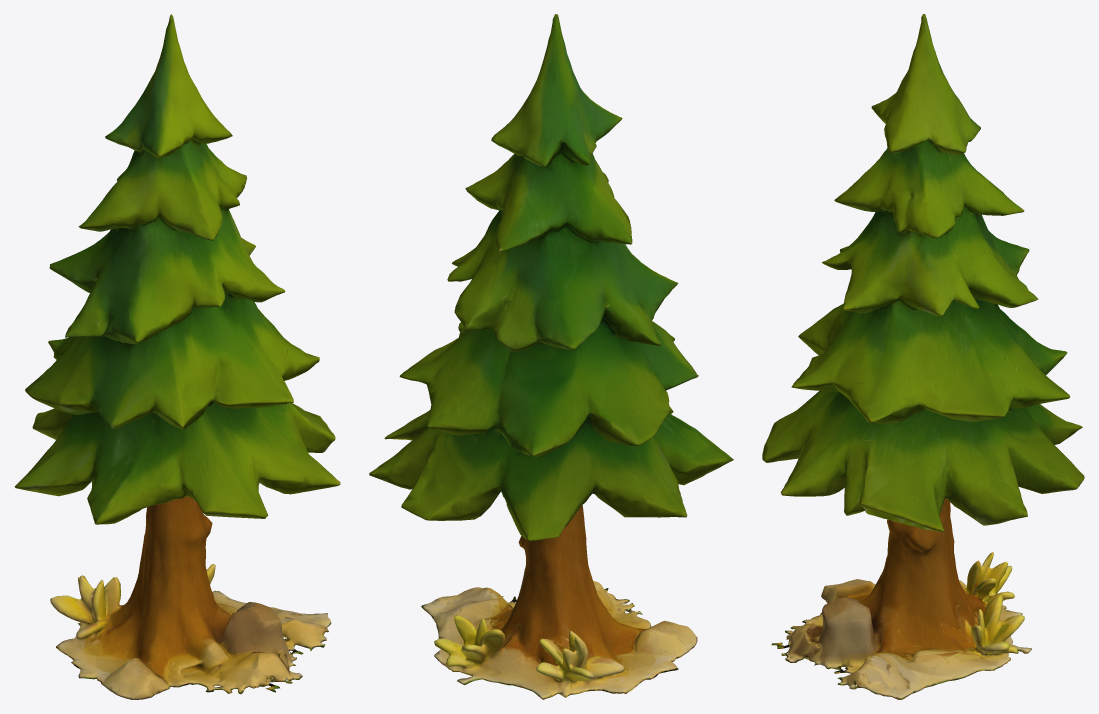
The model's file is meshy_019a7590-df28-72c6-9974-439a20190a1e.fbx.
3 views of the same model, side by side, from view 1: azimuth 30°, elevation 25°; view 2: azimuth 150°, elevation 25°; view 3: azimuth 270°, elevation 25° (orthographic). The views are drawn at different scales.
Parts seen in each view (by area): view 1: Mesh1.0; view 2: Mesh1.0; view 3: Mesh1.0.
Part boxes in pixels (x1,y1,x2,y2): Mesh1.0: (14,14,340,699); Mesh1.0: (369,14,733,699); Mesh1.0: (762,14,1084,699).
Bounding box in the file's own units: 95.97 × 191 × 90.09.
Materials: 1 (1 with a texture image).
